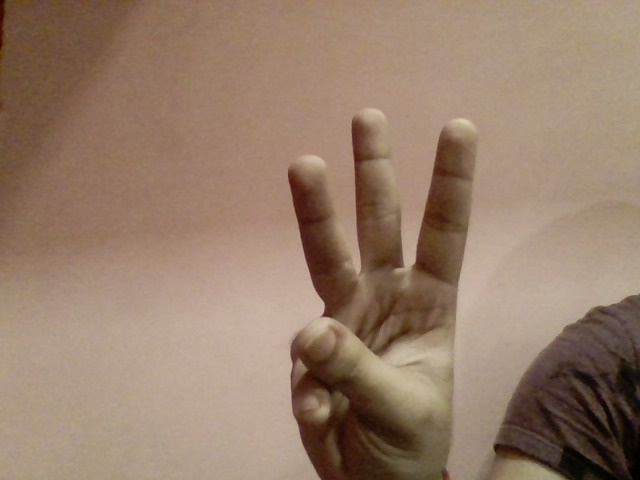w: (267, 101, 483, 480)
